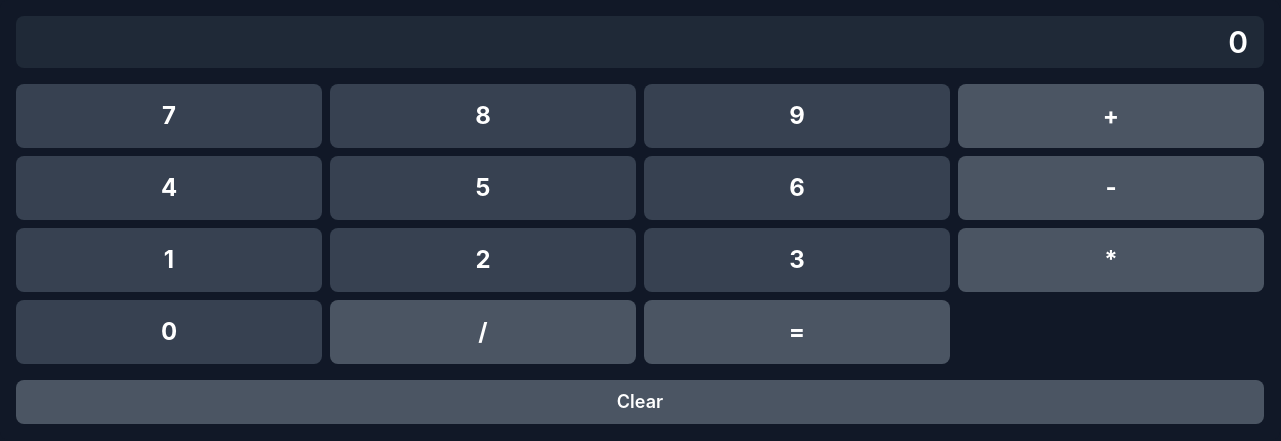
it: calu › clickBtn
Click the text "1" at (169, 260), box left=16, top=228, right=322, bottom=292
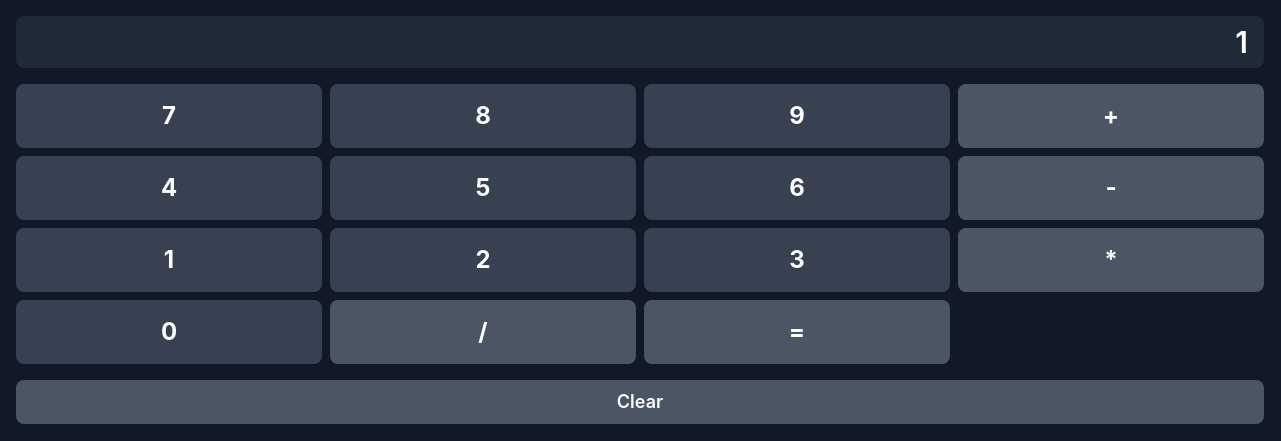
Now the field with test id "total" holds "1", box left=16, top=16, right=1264, bottom=68
